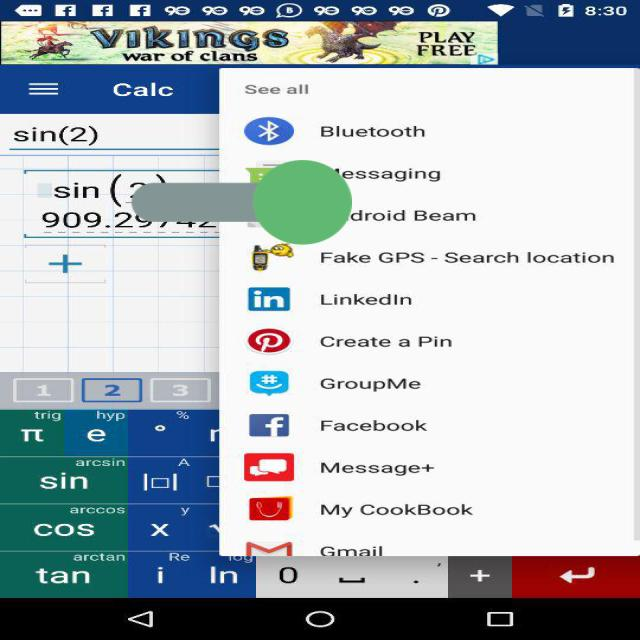social proof: (132, 108, 352, 297)
